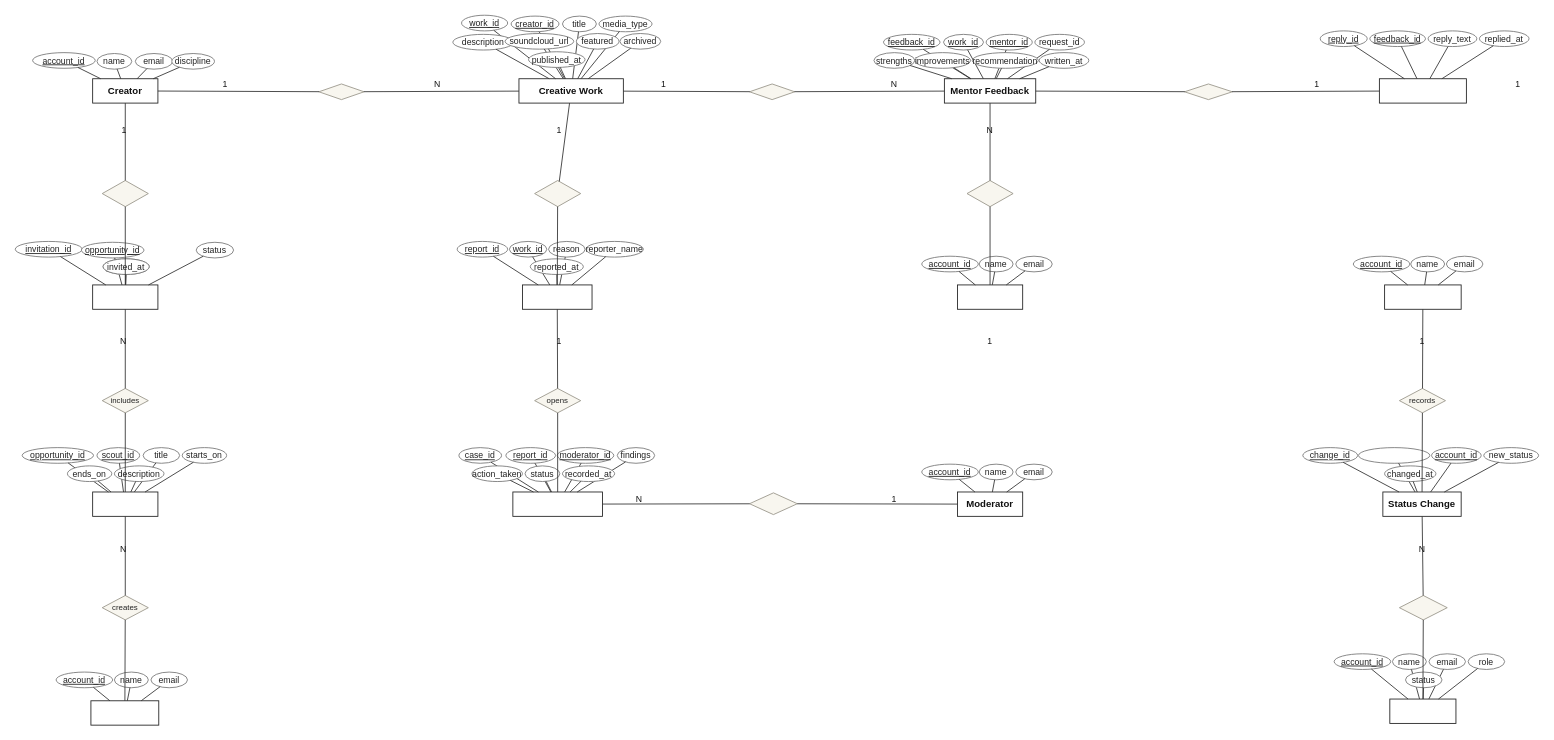
Image size: 1554x740. Some labels were removed from this diagram. The shapes that lost their labels are listed below. From the top down, each one's box as (x1, y1, x2, y2) in pixels, then its label:
(318, 83, 364, 100): publishes
(749, 83, 795, 100): about
(1184, 83, 1232, 100): answered by
(1379, 78, 1466, 103): Feedback Reply
(101, 180, 148, 207): invites
(534, 180, 581, 207): cited in
(966, 180, 1013, 207): writes
(92, 284, 158, 309): Invitation
(522, 284, 592, 309): Work Report
(957, 284, 1023, 309): Mentor
(1384, 284, 1461, 309): Administrator
(1358, 447, 1430, 463): administrator_id
(92, 491, 158, 516): Opportunity
(512, 491, 602, 516): Moderation Case
(749, 492, 797, 515): decided by
(1399, 595, 1447, 620): applies to
(90, 700, 159, 725): Talent Scout
(1389, 698, 1456, 723): Account
